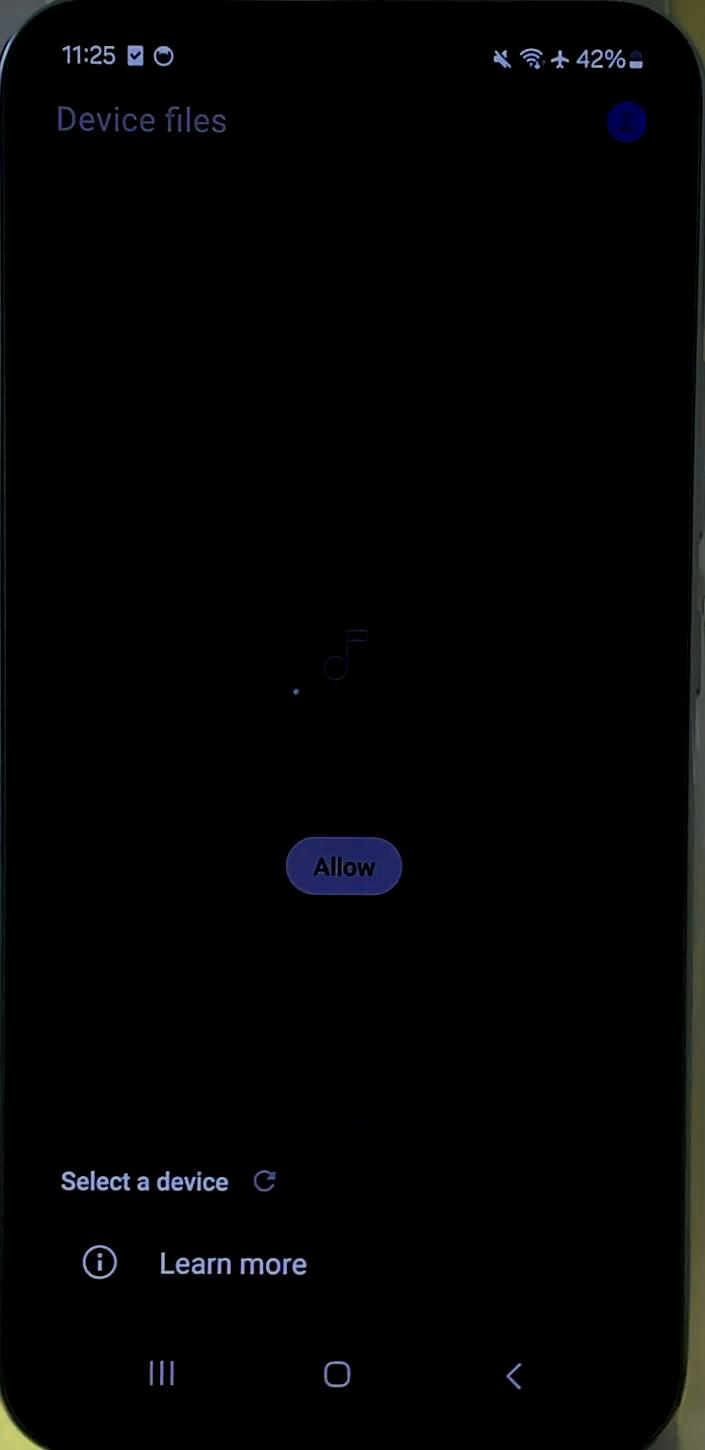CommunBotton: (30, 1094, 668, 1348), (268, 814, 408, 910), (484, 1354, 550, 1410), (134, 1344, 188, 1400), (306, 1356, 370, 1402)
